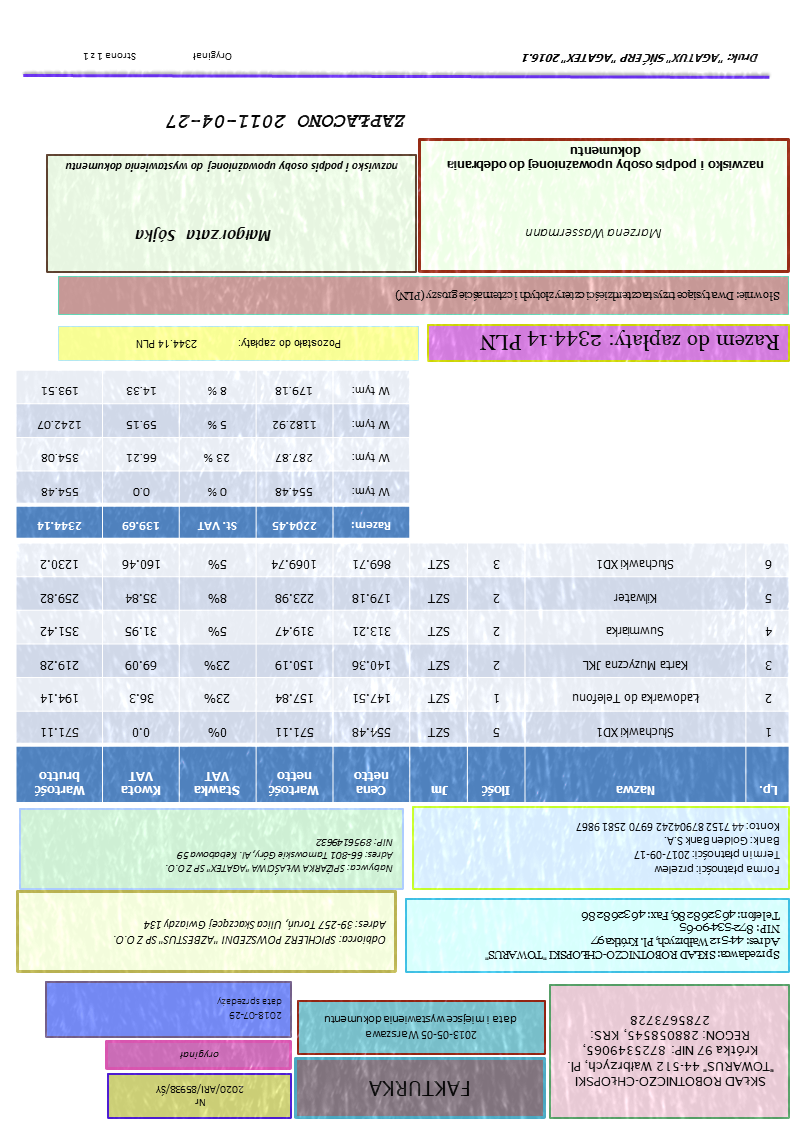Table: (14, 540, 791, 804), (15, 369, 411, 540)
TextBox: (483, 906, 783, 964), (565, 1011, 776, 1090), (575, 820, 783, 879), (163, 834, 397, 878), (443, 144, 768, 175), (111, 914, 390, 950), (478, 328, 782, 360), (394, 285, 782, 306), (63, 159, 401, 176), (323, 1013, 519, 1042), (165, 110, 408, 132), (133, 335, 345, 355), (520, 51, 760, 68), (79, 47, 236, 67), (134, 226, 274, 247), (153, 1081, 246, 1112), (522, 224, 666, 244), (365, 1077, 474, 1101), (216, 994, 284, 1024), (178, 1047, 222, 1064)
